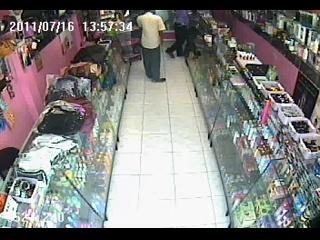Normal: (138, 11, 166, 82), (166, 10, 192, 58)
